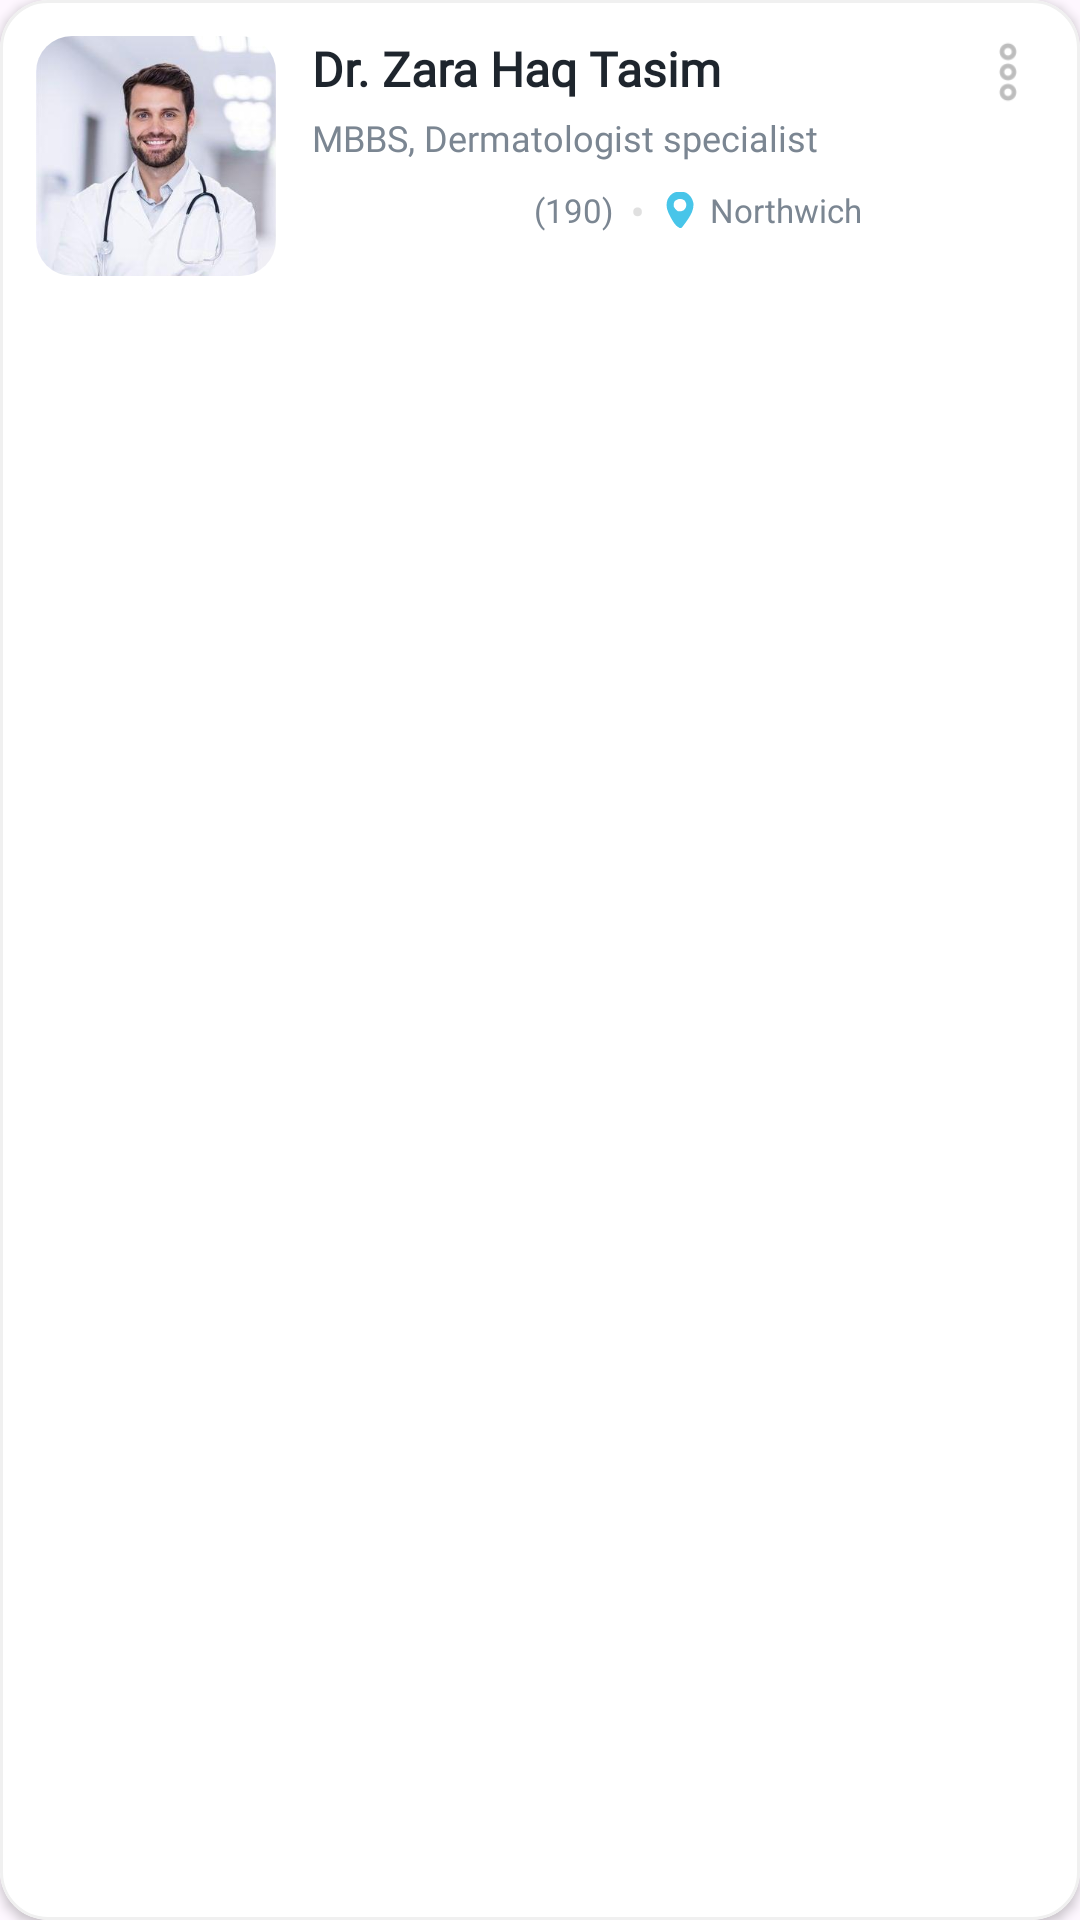

Named icons in this screenshot (1080px x 1920px) and their bounding boxes, BBox(x1, y1, x2, y2):
doctor: BBox(36, 36, 276, 276)
location: BBox(666, 192, 694, 228)
more: BBox(1000, 43, 1016, 101)
